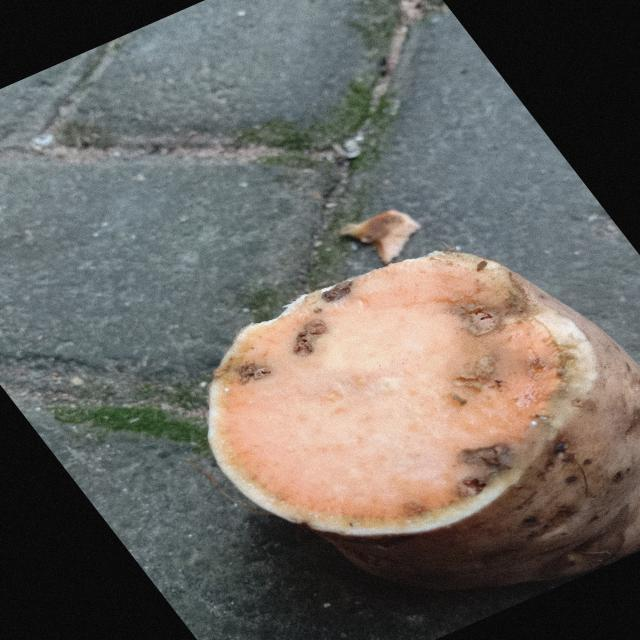Sick Sweet Potato_Tuber Rot: (210, 251, 595, 531)
